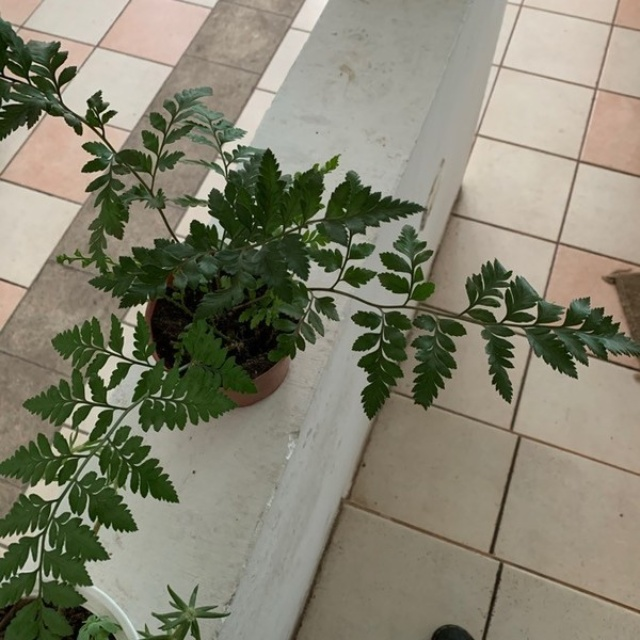obstacle: (13, 36, 558, 606)
